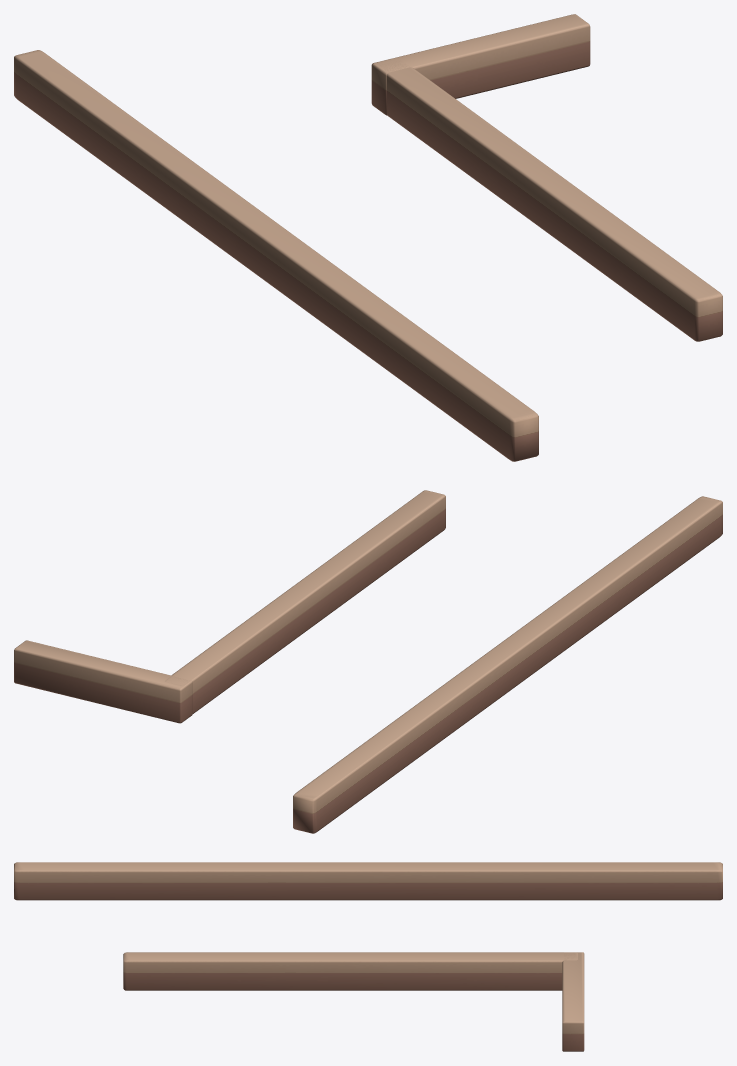
Rendered from Props.fbx.
3 renders of one model, top to bottom at view 1: azimuth 30°, elevation 25°; view 2: azimuth 150°, elevation 25°; view 3: azimuth 270°, elevation 25°, orthographic. The views are drawn at different scales.
Parts seen in each view (by area): view 1: Box20-3_2 (4), Box20-3_2 (3), Box20-3_2 (2); view 2: Box20-3_2 (4), Box20-3_2 (3), Box20-3_2 (2); view 3: Box20-3_2 (4), Box20-3_2 (3), Box20-3_2 (2).
Boxes of the visible parts, x1=… form: Box20-3_2 (4): x1=14, y1=50, x2=538, y2=461; Box20-3_2 (3): x1=379, y1=60, x2=722, y2=341; Box20-3_2 (2): x1=371, y1=14, x2=590, y2=115; Box20-3_2 (4): x1=293, y1=496, x2=722, y2=833; Box20-3_2 (3): x1=165, y1=490, x2=445, y2=713; Box20-3_2 (2): x1=14, y1=640, x2=192, y2=723; Box20-3_2 (4): x1=14, y1=862, x2=722, y2=900; Box20-3_2 (3): x1=123, y1=952, x2=577, y2=990; Box20-3_2 (2): x1=562, y1=952, x2=584, y2=1051.
Bounding box in the file's own units: 17.2 × 1.5 × 32.1.
Materials: 1 (1 with a texture image).
